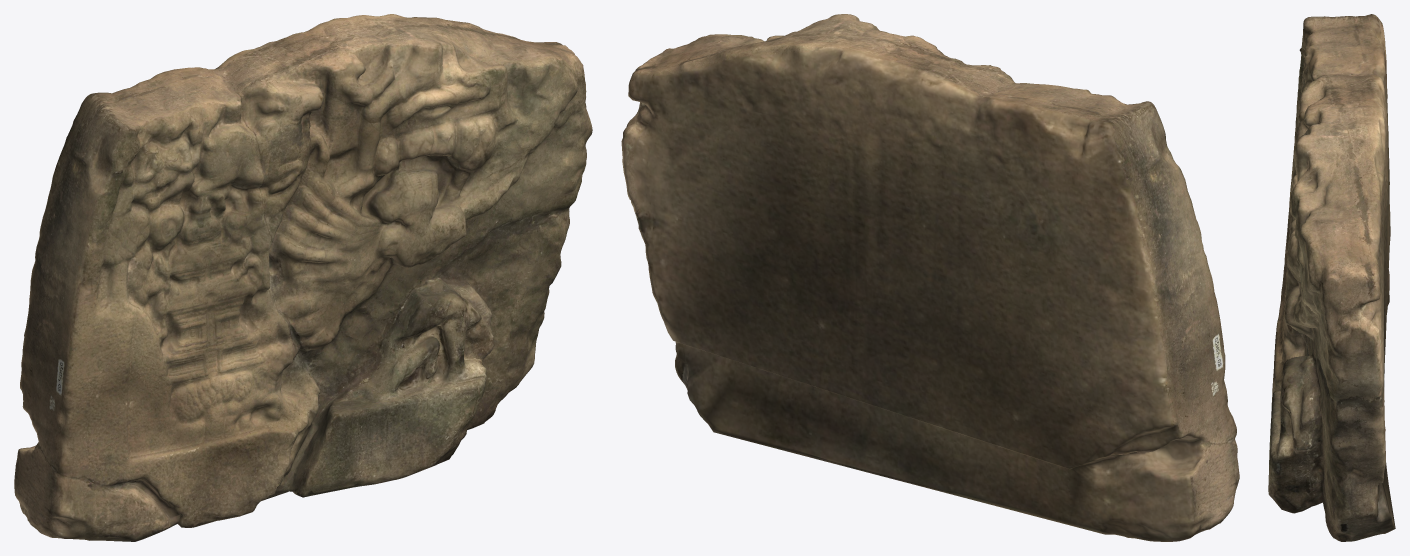
File: 41_MysonSanctuaryD2_Phudieu_final.glb
3 views of the same model, side by side, from view 1: azimuth 30°, elevation 25°; view 2: azimuth 150°, elevation 25°; view 3: azimuth 270°, elevation 25° (orthographic). The views are drawn at different scales.
Bounding box in the file's own units: 1.43 × 1.02 × 0.3108.
Materials: 1 (1 with a texture image).
